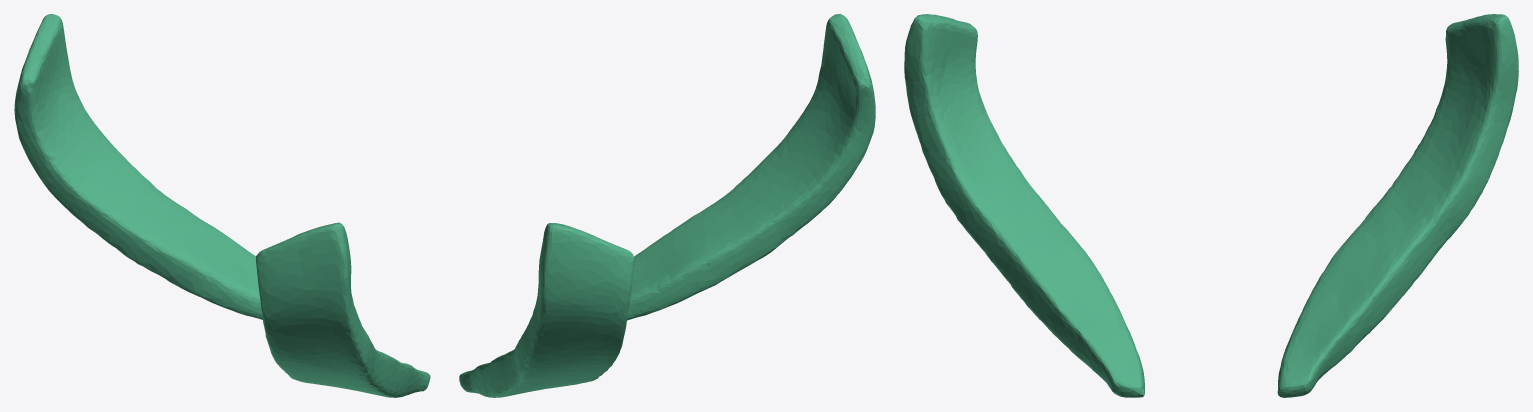
3 views of the same model, side by side, from view 1: azimuth 30°, elevation 25°; view 2: azimuth 150°, elevation 25°; view 3: azimuth 270°, elevation 25° (orthographic).
Parts seen in each view (by area): view 1: 943.obj; view 2: 943.obj; view 3: 943.obj.
Part boxes in pixels (x1,y1,x2,y2): 943.obj: (14, 14, 430, 397); 943.obj: (459, 14, 875, 397); 943.obj: (904, 14, 1518, 397).
Size of the model in its own units: 3328 by 3650 by 7013.
